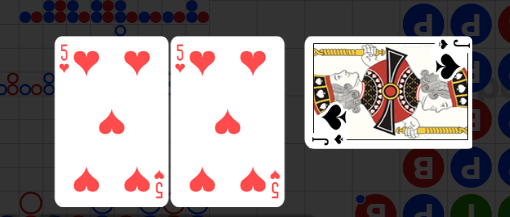5H: (269, 168, 282, 200), (153, 169, 165, 200)
